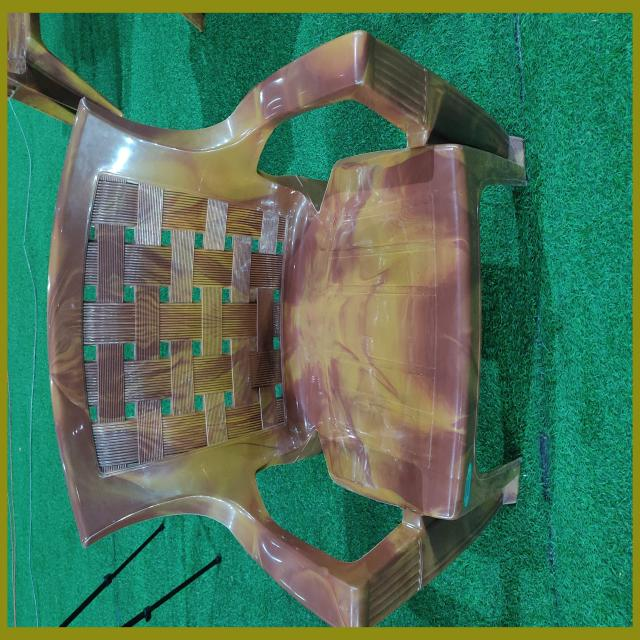Camer Stand: (46, 27, 528, 627)
